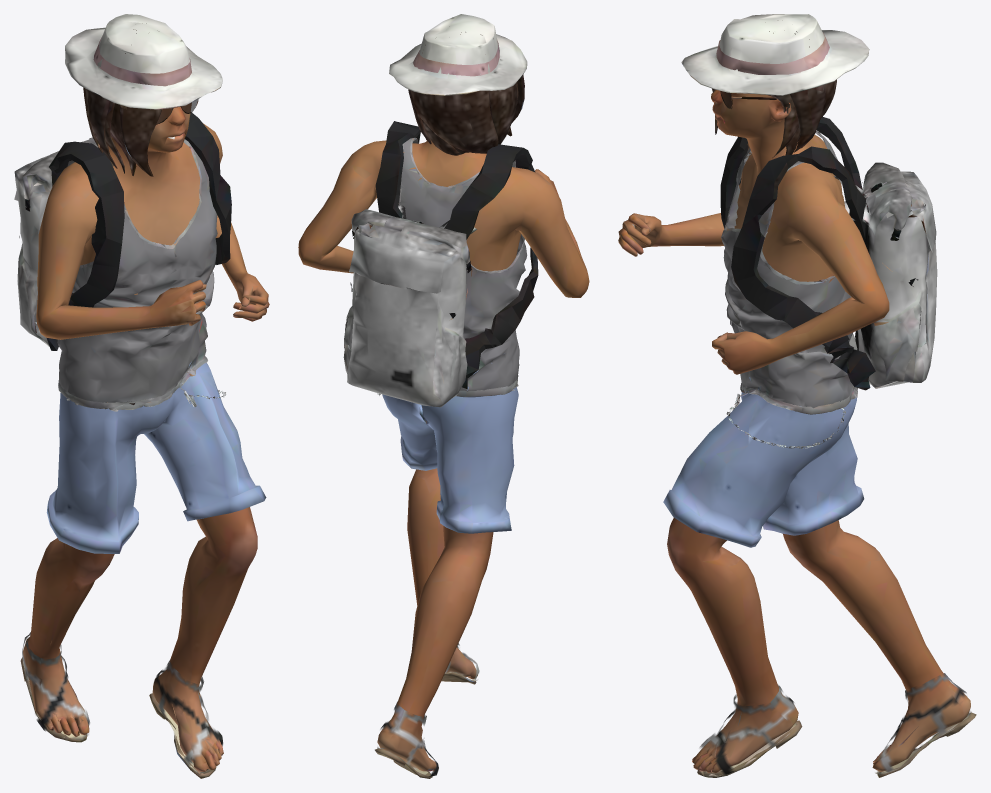
3 renders of one model, left to right at view 1: azimuth 30°, elevation 25°; view 2: azimuth 150°, elevation 25°; view 3: azimuth 270°, elevation 25°, orthographic. The views are drawn at different scales.
Parts seen in each view (by area): view 1: p00701; view 2: p00701; view 3: p00701.
Boxes of the visible parts, x1,y1,x2,y2 form: p00701: (14,14,269,778); p00701: (298,14,589,778); p00701: (618,14,976,777).
Bounding box in the file's own units: 0.5105 × 1.51 × 0.6451.
1 material, 1 textured.
